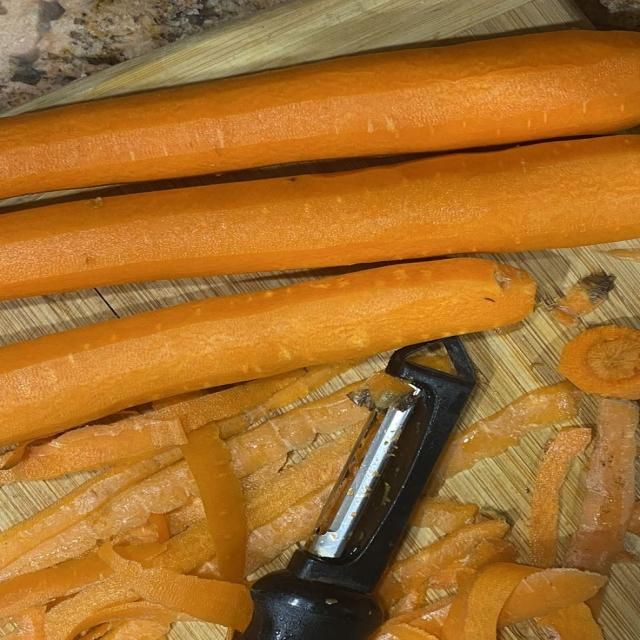carrot: (0, 31, 639, 197), (0, 136, 639, 298), (0, 259, 535, 444), (0, 363, 348, 484), (0, 462, 196, 579), (0, 453, 179, 579), (431, 381, 578, 487), (227, 381, 369, 477), (564, 398, 639, 574), (99, 545, 253, 629), (0, 415, 186, 484), (247, 439, 343, 570), (378, 520, 508, 615), (247, 425, 361, 529), (218, 361, 357, 439), (182, 425, 248, 582), (530, 428, 591, 567), (247, 483, 333, 574), (247, 483, 333, 573), (442, 564, 539, 639), (0, 554, 111, 619), (498, 569, 606, 628), (559, 325, 639, 399), (45, 601, 178, 639), (427, 539, 517, 589), (372, 597, 453, 639), (553, 273, 614, 326), (410, 497, 479, 533), (537, 603, 603, 639), (112, 513, 170, 545), (167, 496, 205, 536), (103, 620, 170, 639), (9, 607, 47, 639), (152, 390, 207, 409), (409, 353, 456, 374), (81, 621, 134, 639), (380, 623, 437, 639), (604, 249, 639, 261), (628, 502, 639, 536)
